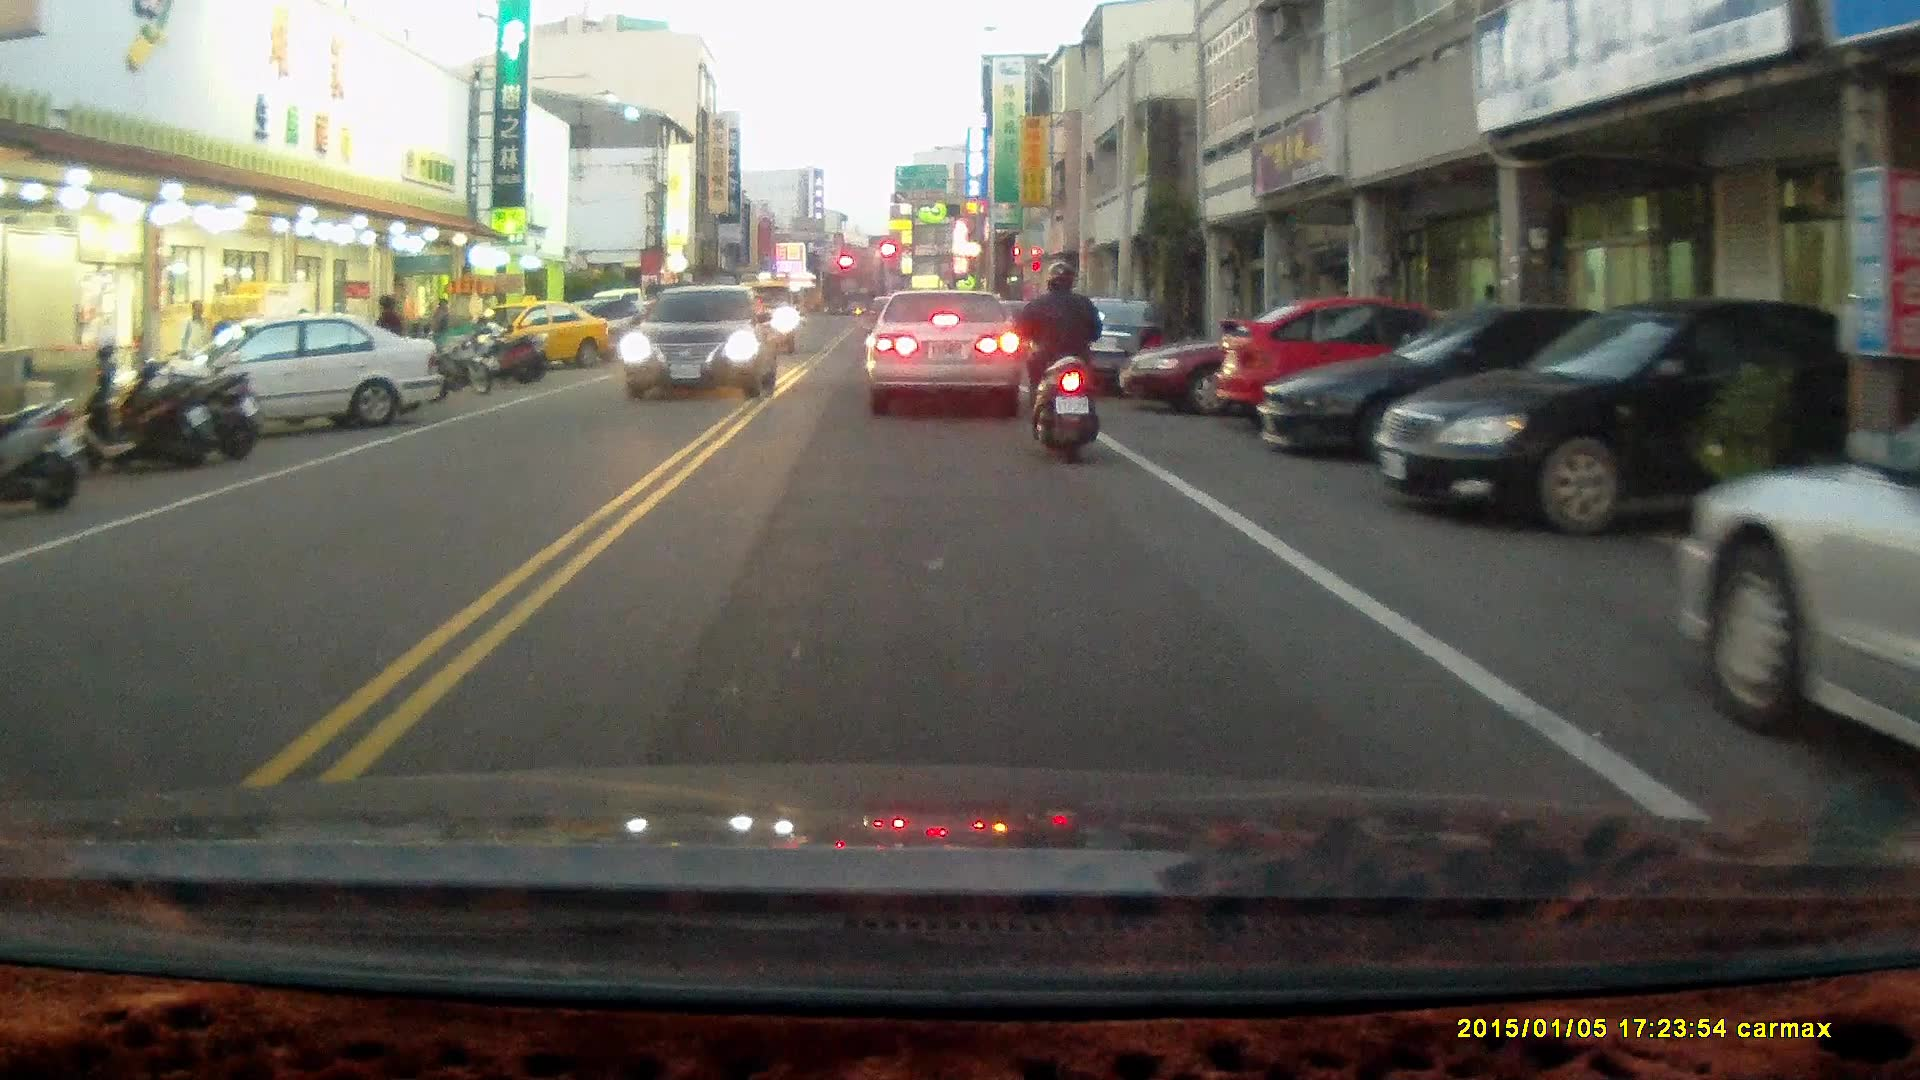pedestrian: (369, 292, 405, 389), (177, 298, 212, 395)
rider: (1009, 258, 1101, 466)
vehicle: (1667, 334, 1920, 808), (1372, 298, 1858, 538), (1260, 309, 1668, 473), (126, 310, 438, 443), (1210, 298, 1488, 437), (1119, 305, 1440, 420), (866, 291, 1027, 425), (621, 283, 777, 406), (1035, 295, 1172, 395), (496, 306, 617, 381)
